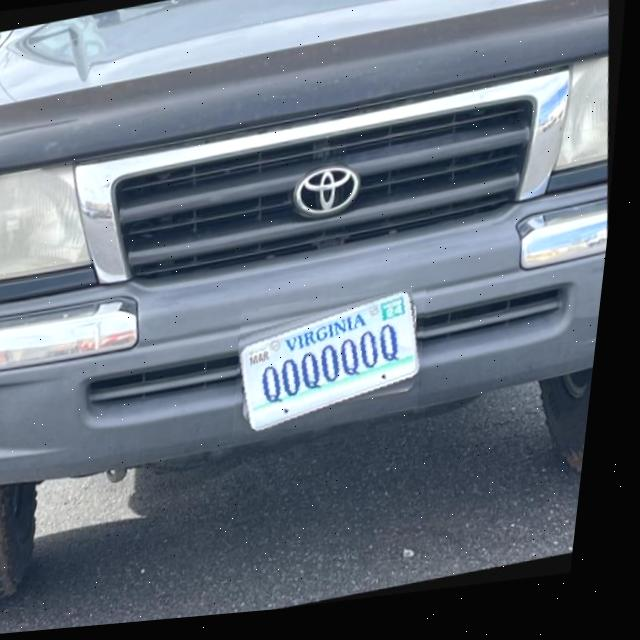LicensePlate: (247, 298, 429, 438)
